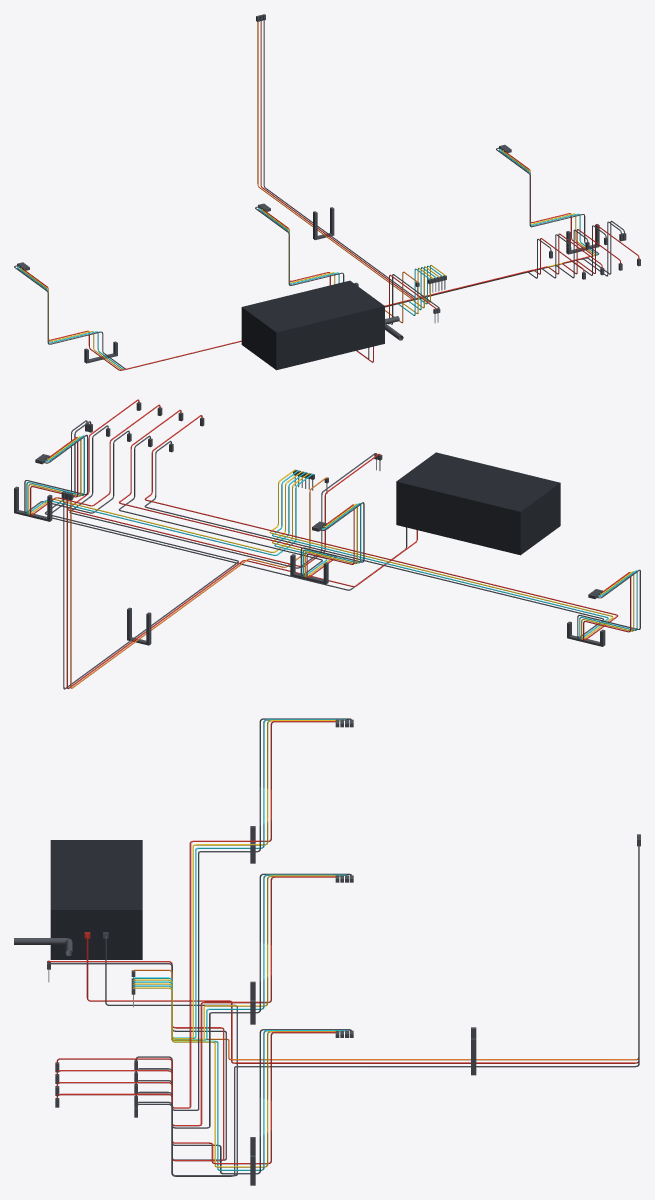
Rendered from cabos-fonte.glb.
3 views of the same model, one above another, from view 1: azimuth 30°, elevation 25°; view 2: azimuth 150°, elevation 25°; view 3: azimuth 270°, elevation 25° (orthographic). The views are drawn at different scales.
Visible parts, largest first — view 1: fonte_baixa_tensao_representada, SERVO_GND, HC_A_VCC, SERVO_SIGNAL, SERVO_POS; view 2: fonte_baixa_tensao_representada, HC_A_VCC, HC_A_GND, SERVO_GND, HC_A_ECHO, HC_A_TRIG, SERVO_POS, HC_C_ECHO, SERVO_SIGNAL, HC_B_GND, HC_B_VCC, UNO_5V_BARRAMENTO (+7 smaller); view 3: fonte_baixa_tensao_representada, SERVO_GND, HC_A_VCC, SERVO_POS, HC_B_VCC, HC_A_GND, HC_A_TRIG, UNO_5V_BARRAMENTO, SERVO_SIGNAL, HC_A_ECHO, HC_C_VCC, HC_B_GND (+7 smaller).
Part boxes in pixels (bbox=[...]): fonte_baixa_tensao_representada: bbox=[241, 280, 384, 370]; SERVO_GND: bbox=[263, 20, 624, 297]; HC_A_VCC: bbox=[23, 238, 584, 370]; SERVO_SIGNAL: bbox=[257, 22, 417, 323]; SERVO_POS: bbox=[260, 21, 413, 362]; fonte_baixa_tensao_representada: bbox=[396, 452, 560, 555]; HC_A_VCC: bbox=[144, 415, 631, 640]; HC_A_GND: bbox=[144, 440, 640, 638]; SERVO_GND: bbox=[45, 420, 238, 689]; HC_A_ECHO: bbox=[272, 470, 637, 639]; HC_A_TRIG: bbox=[269, 469, 634, 639]; SERVO_POS: bbox=[66, 499, 417, 688]; HC_C_ECHO: bbox=[26, 435, 313, 555]; SERVO_SIGNAL: bbox=[70, 477, 327, 688]; HC_B_GND: bbox=[118, 435, 364, 575]; HC_B_VCC: bbox=[119, 409, 354, 578]; UNO_5V_BARRAMENTO: bbox=[68, 399, 380, 567]; fonte_baixa_tensao_representada: bbox=[50, 840, 142, 959]; SERVO_GND: bbox=[135, 846, 639, 1176]; HC_A_VCC: bbox=[56, 721, 335, 1108]; SERVO_POS: bbox=[86, 935, 638, 1063]; HC_B_VCC: bbox=[56, 876, 335, 1126]; HC_A_GND: bbox=[135, 718, 351, 1110]; HC_A_TRIG: bbox=[133, 720, 340, 1039]; UNO_5V_BARRAMENTO: bbox=[48, 960, 224, 1161]; SERVO_SIGNAL: bbox=[133, 969, 638, 1060]; HC_A_ECHO: bbox=[133, 719, 345, 1038]; HC_C_VCC: bbox=[56, 1031, 335, 1164]; HC_B_GND: bbox=[135, 873, 351, 1128].
Size of the model in its own units: 0.455 by 0.1393 by 0.3411.
